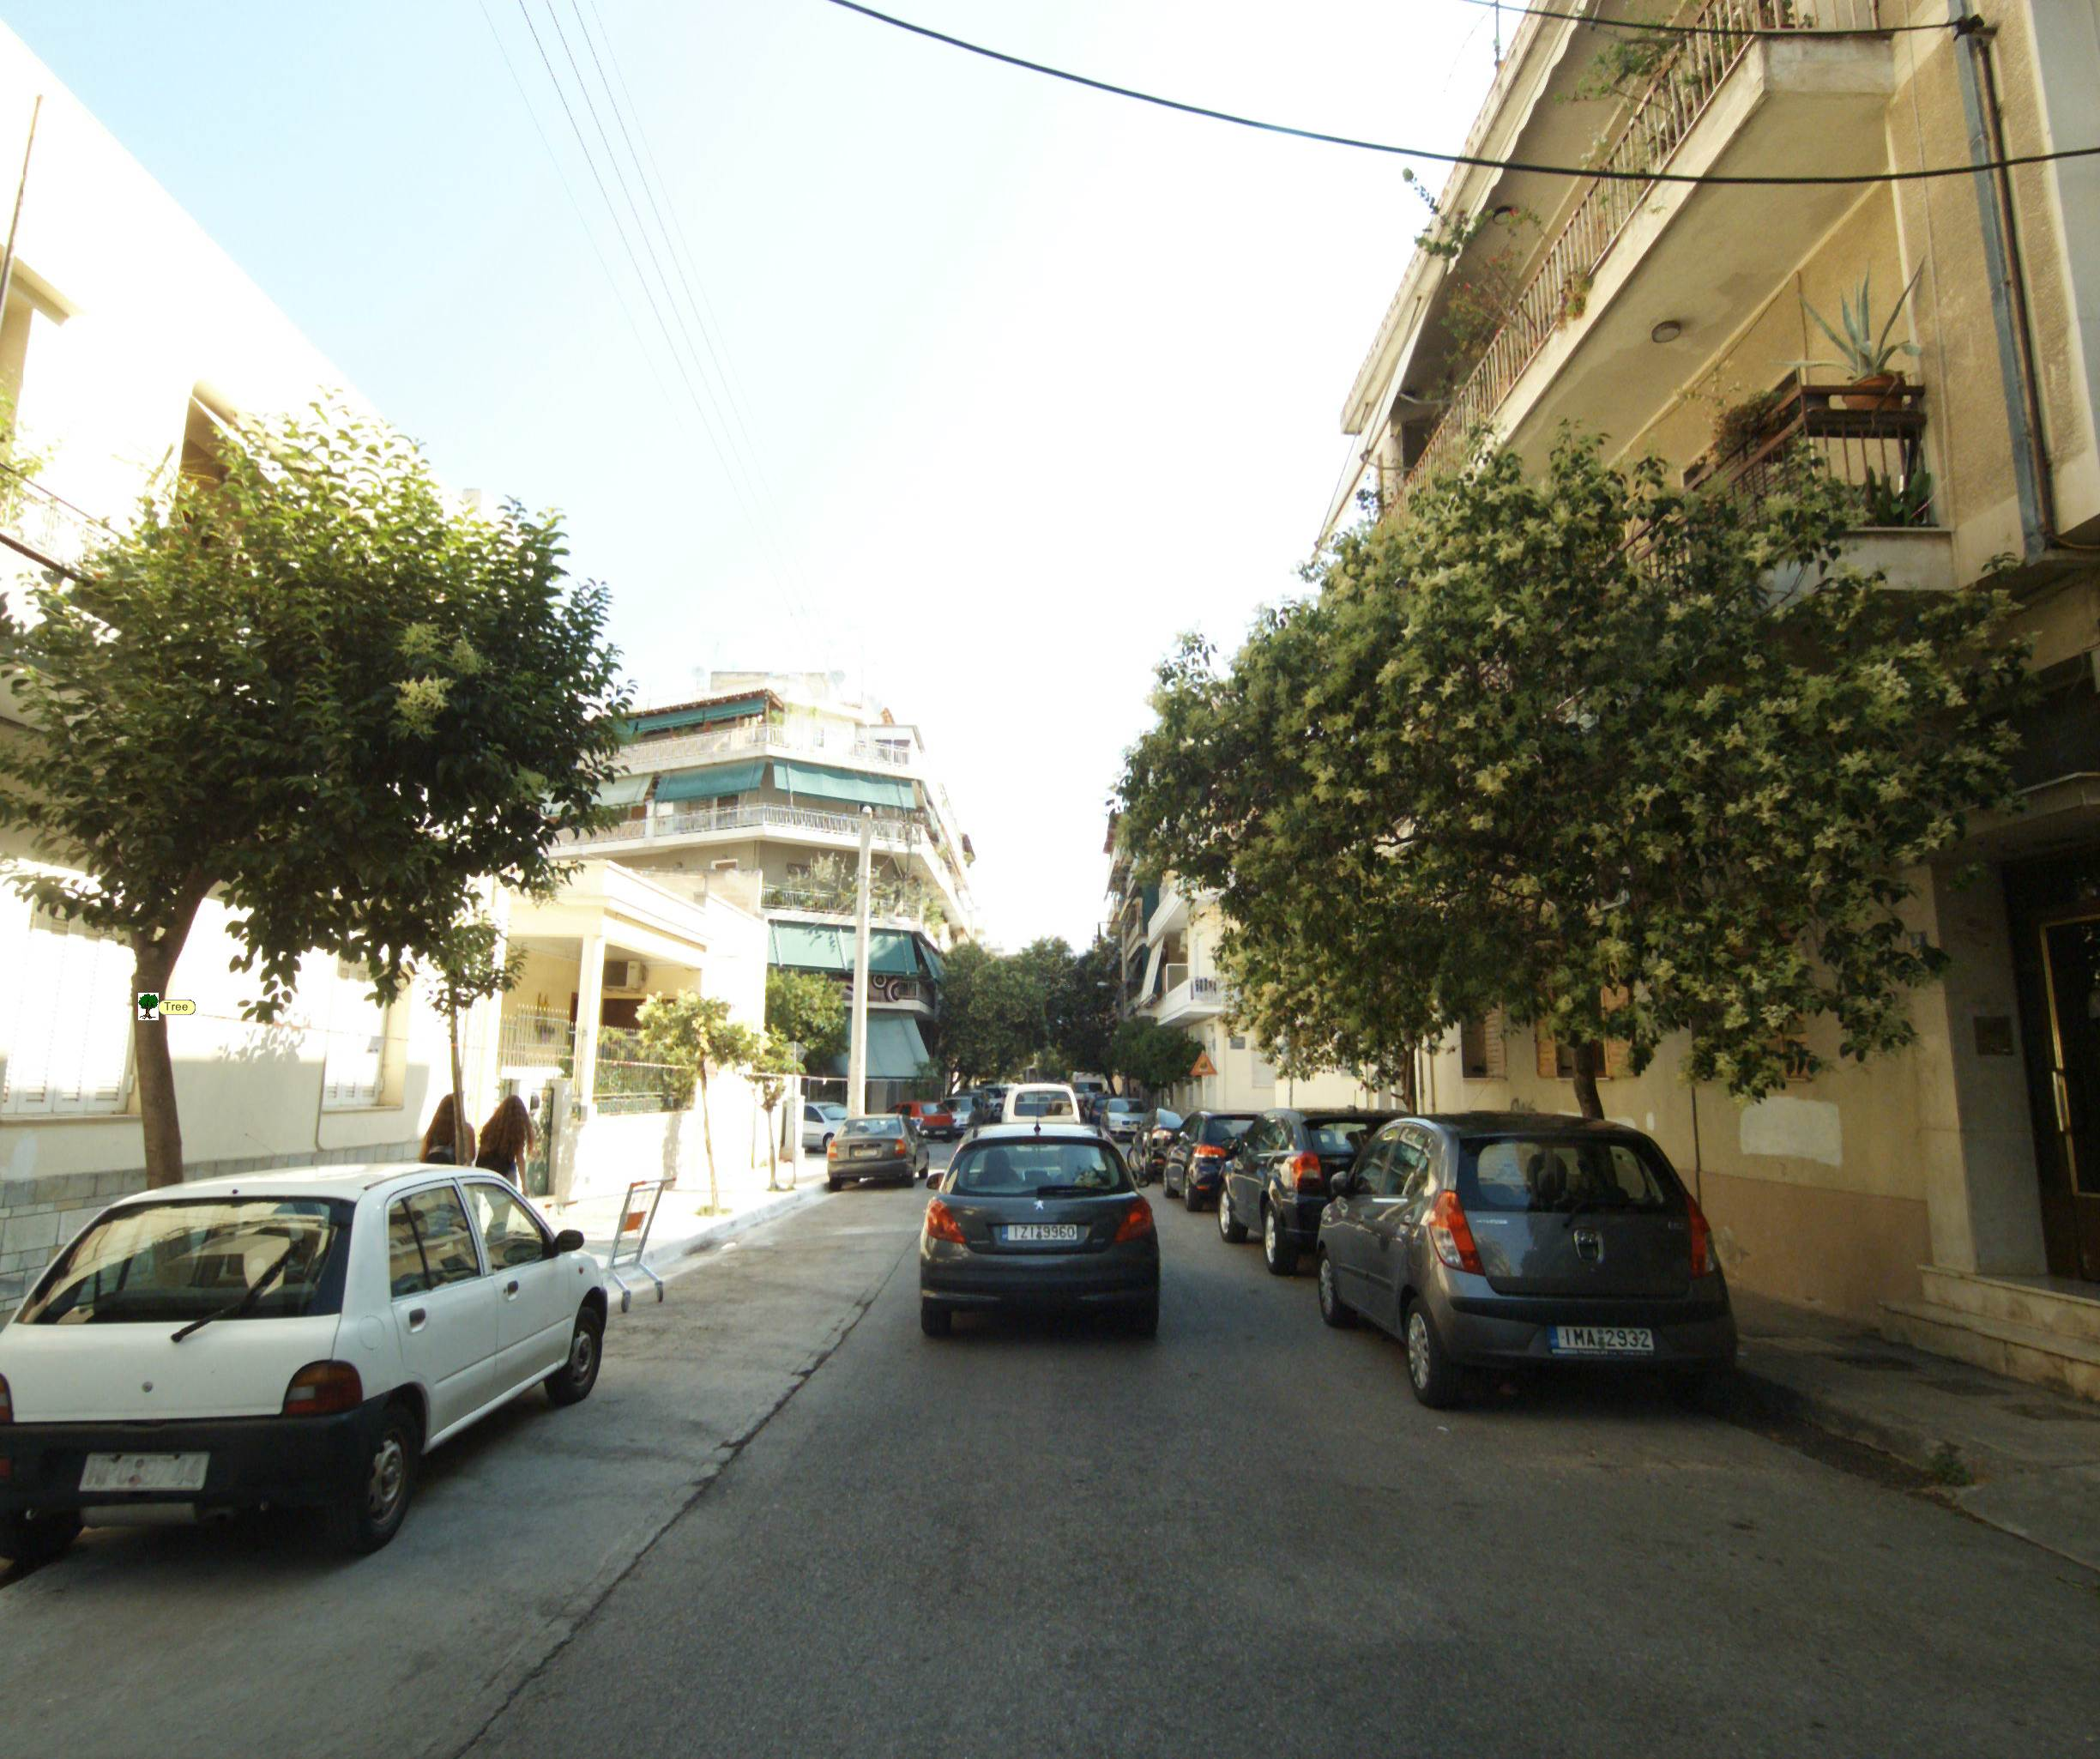tree: (10, 370, 652, 1586)
